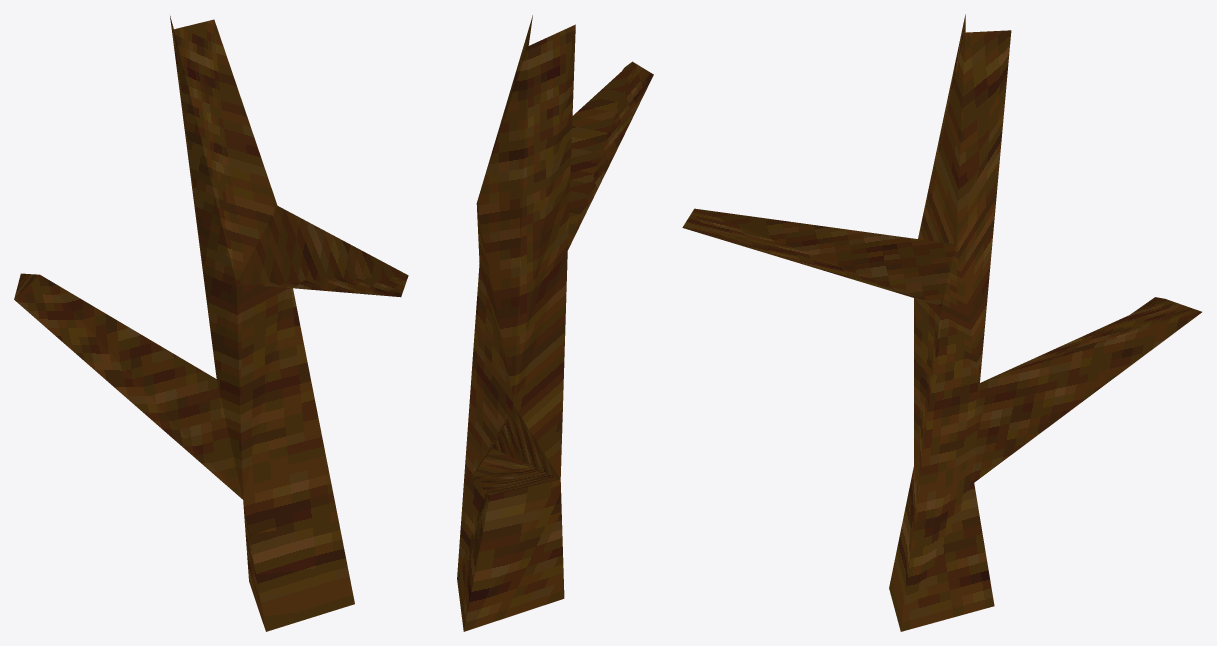
The model's file is treebranch05.glb.
3 views of the same model, side by side, from view 1: azimuth 30°, elevation 25°; view 2: azimuth 150°, elevation 25°; view 3: azimuth 270°, elevation 25° (orthographic). The views are drawn at different scales.
Visible parts, largest first — view 1: treebranch05; view 2: treebranch05; view 3: treebranch05.
Boxes of the visible parts, x1,y1,x2,y2 form: treebranch05: (14, 16, 408, 631); treebranch05: (457, 15, 653, 631); treebranch05: (682, 14, 1201, 631).
Size of the model in its own units: 240 by 652 by 559.
Materials: 1 (1 with a texture image).
